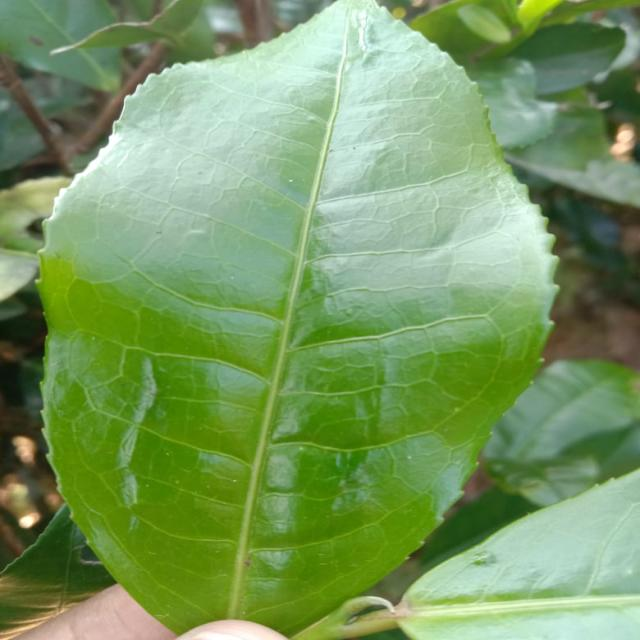Category B 2-4 days: (27, 0, 566, 634)
